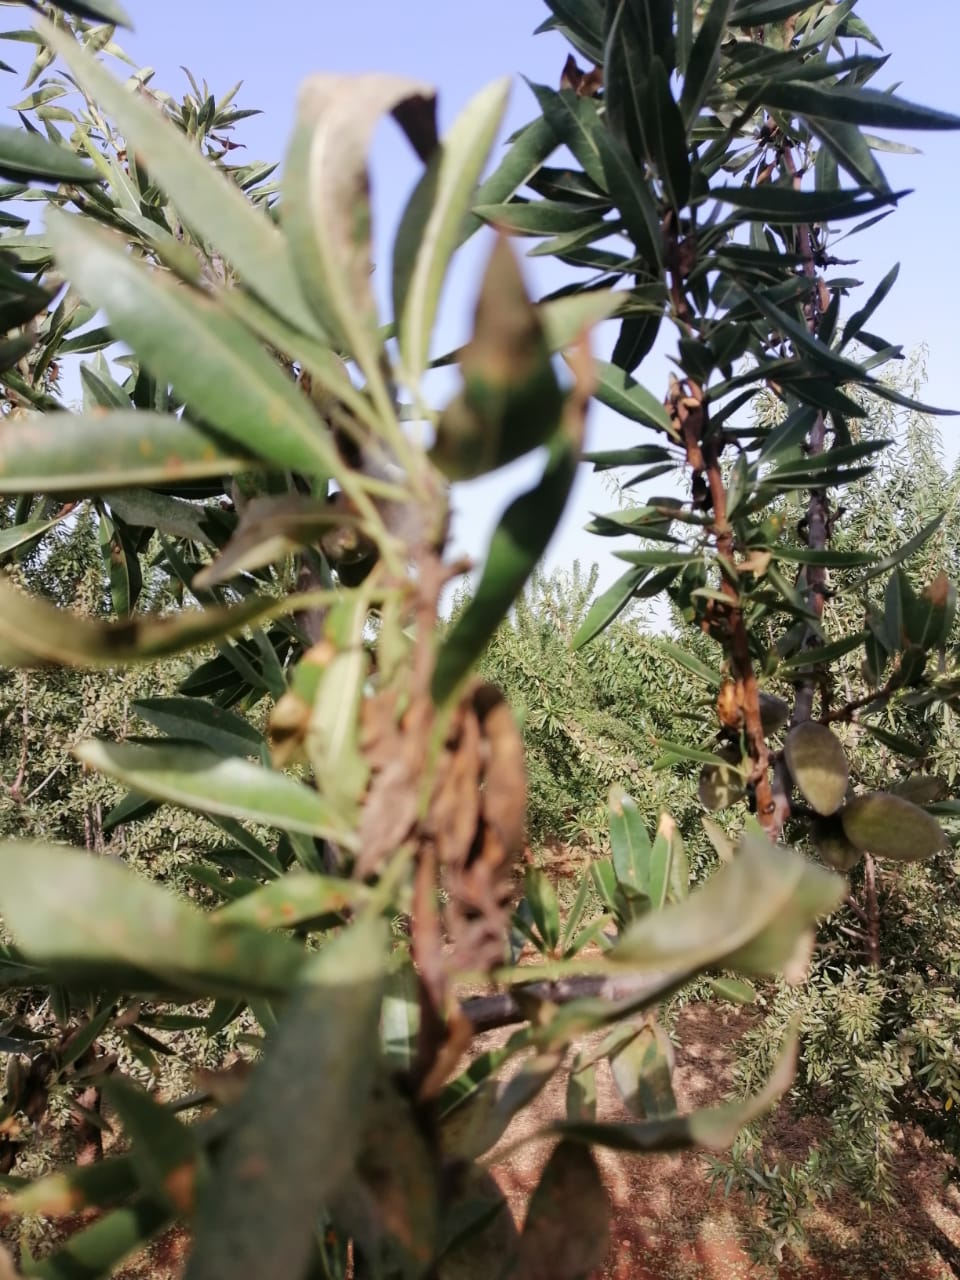scolytes: (260, 531, 538, 1152), (684, 569, 787, 811)
